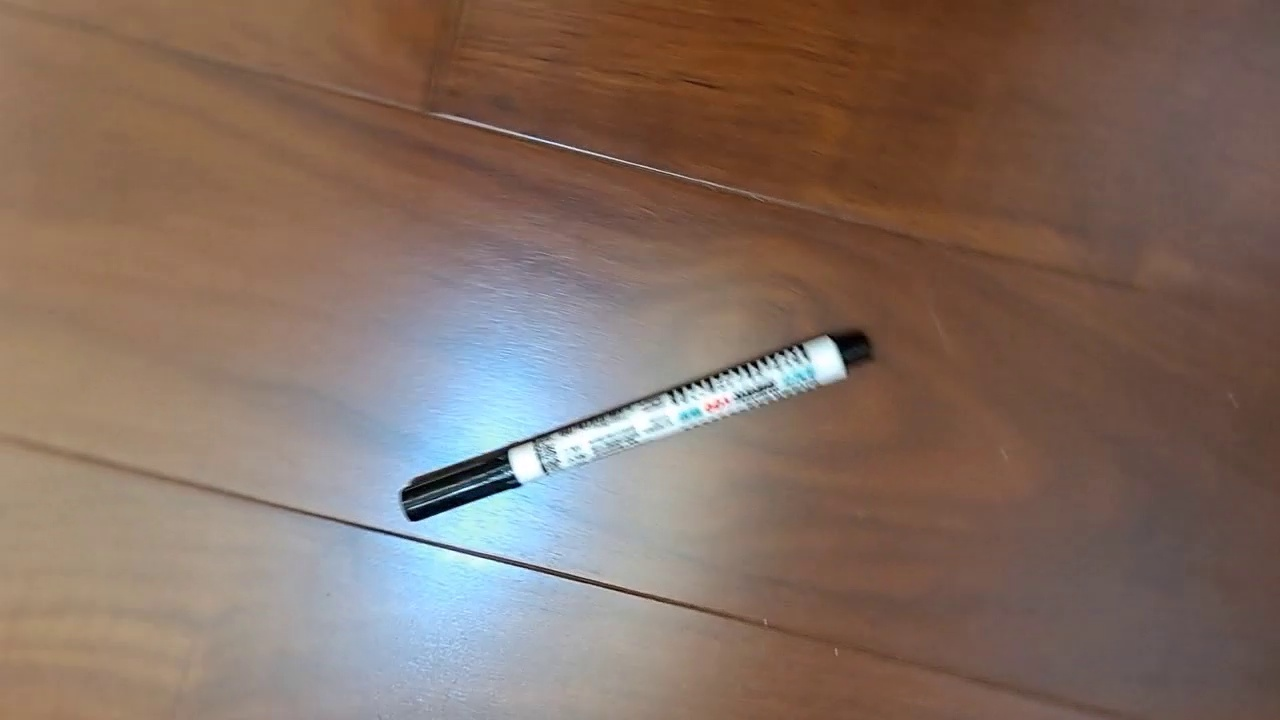pen: (398, 328, 875, 522)
